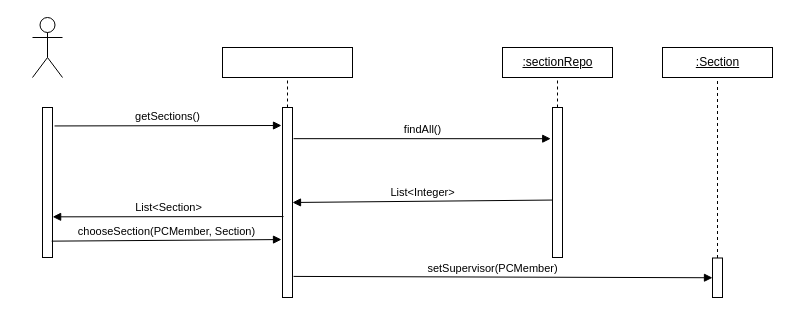
Image size: 790x315. Some labels were removed from this diagram. Each missing label, with the centre of its shape:
":PCMemeberService" belongs at (x=287, y=62).
"PCMember" belongs at (x=47, y=47).
